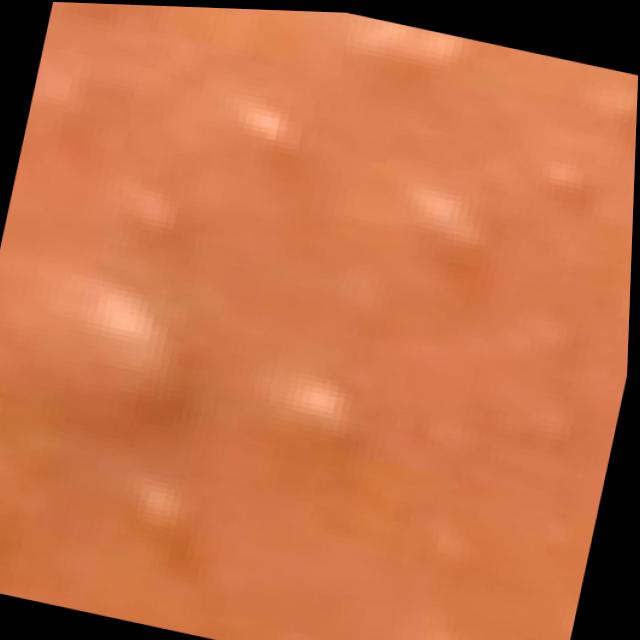whitehead: (0, 1, 638, 617)
